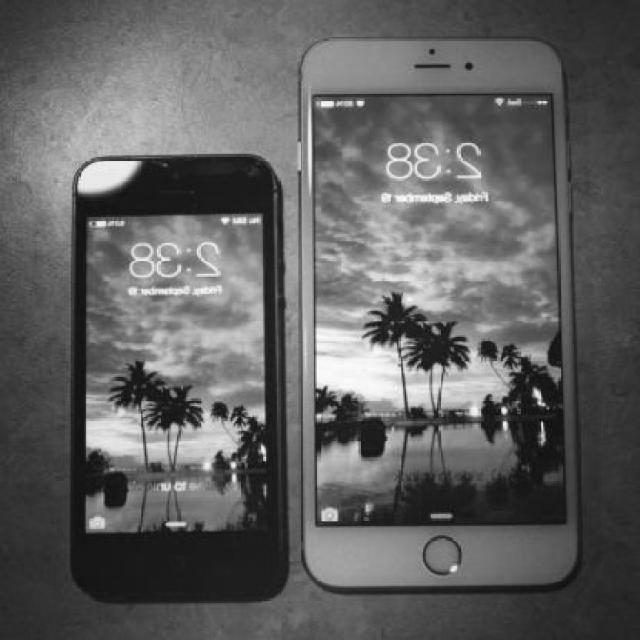fake: (294, 36, 583, 596), (63, 134, 291, 614)
